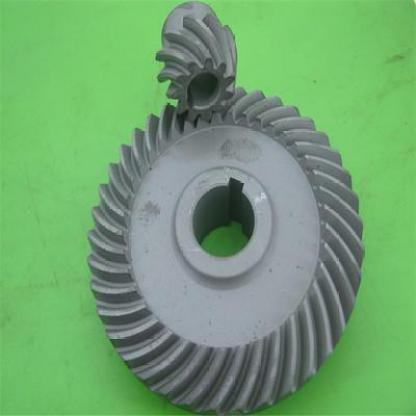FOD: (83, 83, 370, 415), (150, 0, 244, 126)
